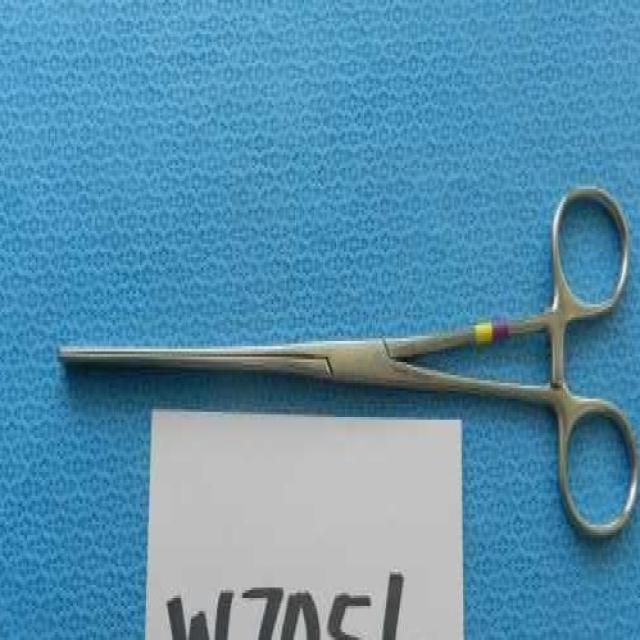Doyel Instestinal Forceps: (53, 180, 640, 540)
